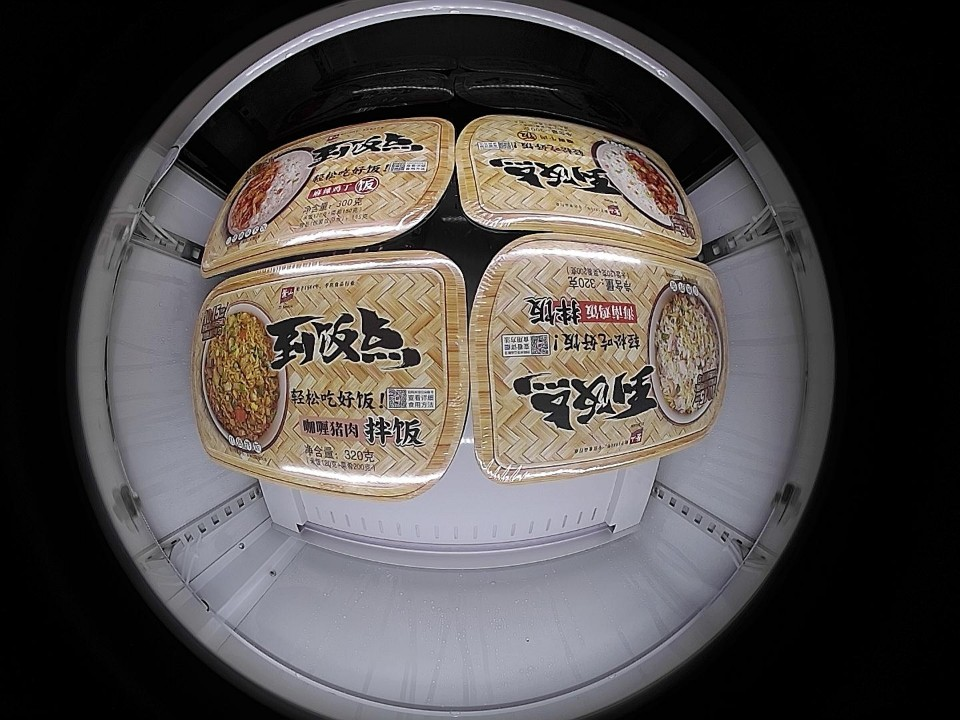daofandian1: (467, 235, 729, 479)
daofandian2: (455, 114, 704, 256)
daofandian3: (192, 250, 473, 498)
daofandian4: (201, 116, 457, 276)
